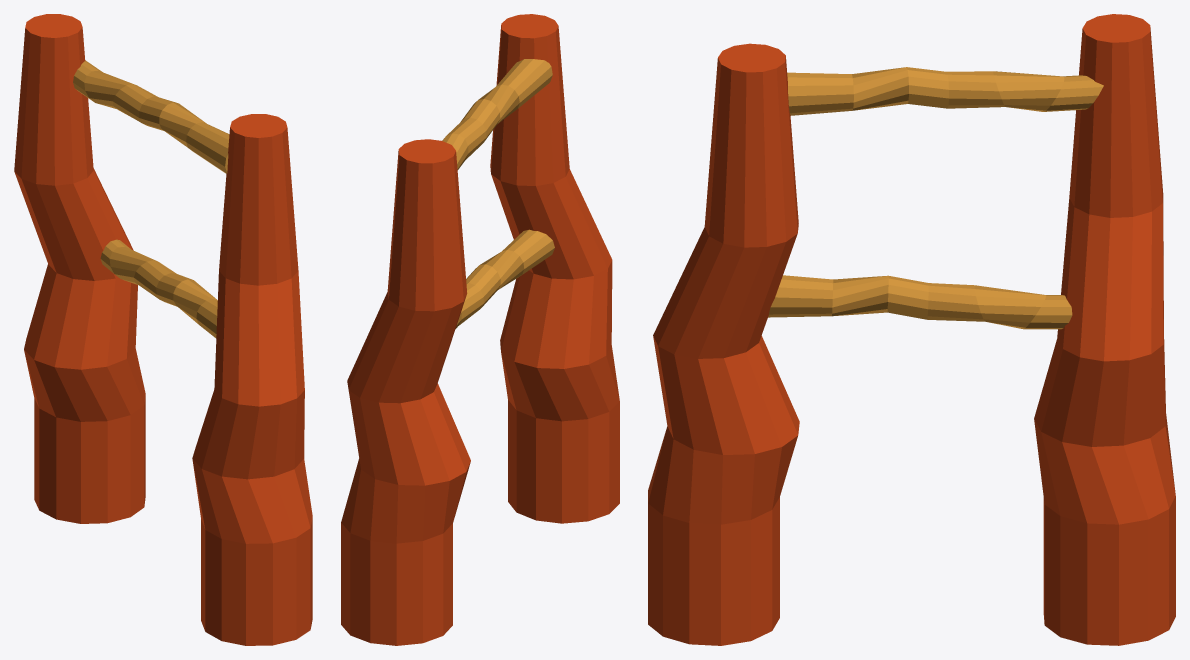
The model's file is hangRao.fbx.
3 views of the same model, side by side, from view 1: azimuth 30°, elevation 25°; view 2: azimuth 150°, elevation 25°; view 3: azimuth 270°, elevation 25° (orthographic). The views are drawn at different scales.
Parts seen in each view (by area): view 1: Cylinder, Cylinder.001, Cylinder.003, Cylinder.002; view 2: Cylinder.001, Cylinder, Cylinder.003, Cylinder.002; view 3: Cylinder.001, Cylinder, Cylinder.003, Cylinder.002.
Boxes of the visible parts, x1,y1,x2,y2 form: Cylinder: (192, 114, 312, 645); Cylinder.001: (14, 14, 145, 523); Cylinder.003: (73, 60, 229, 173); Cylinder.002: (100, 239, 217, 338); Cylinder.001: (341, 139, 470, 645); Cylinder: (490, 14, 619, 523); Cylinder.003: (442, 59, 552, 169); Cylinder.002: (455, 229, 554, 328); Cylinder.001: (1034, 14, 1175, 645); Cylinder: (648, 43, 799, 645); Cylinder.003: (787, 67, 1103, 115); Cylinder.002: (768, 275, 1072, 329).
Bounding box in the file's own units: 73.32 × 280 × 235.
